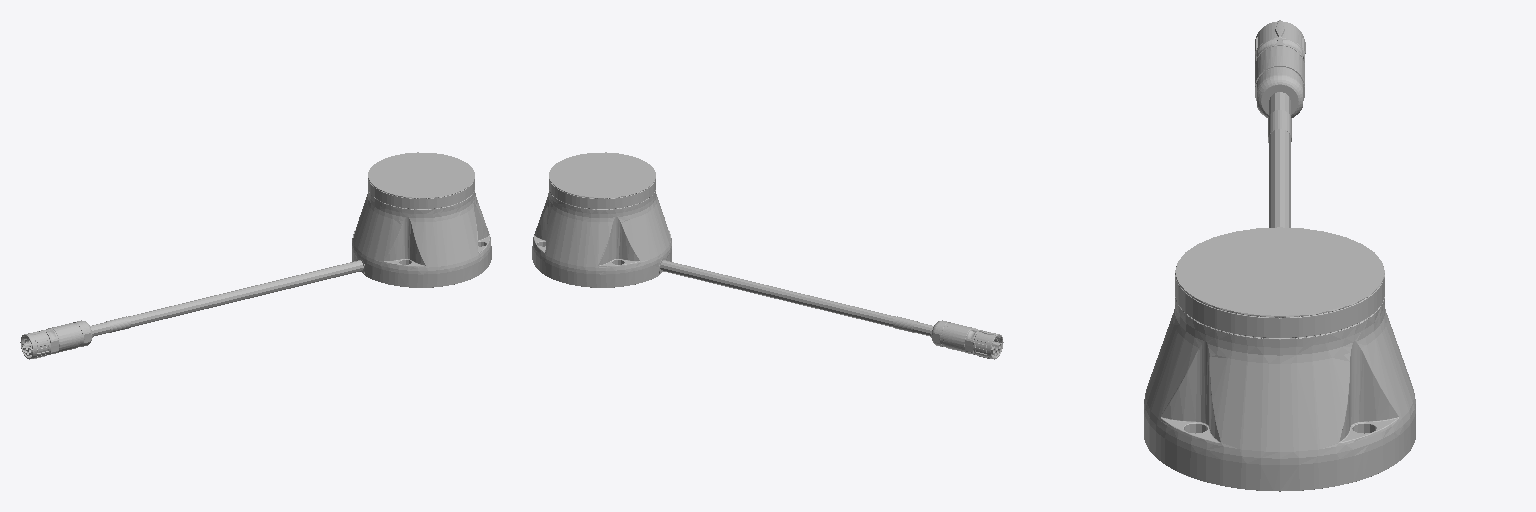
The robot description file, URDF, robot "Tool":
<?xml version="1.0" encoding="utf-8"?>
<!-- This URDF was automatically created by SolidWorks to URDF Exporter! Originally created by [author] ([email redacted]) 
     Commit Version: 1.6.0-4-g7f85cfe  Build Version: 1.6.7995.38578
     For more information, please see http://wiki.ros.org/sw_urdf_exporter -->
<robot
  name="Tool">
  <link
    name="base_link">
    <inertial>
      <origin
        xyz="0.0823340324548034 0.00125665237705858 0.00160517850151298"
        rpy="0 0 0" />
      <mass
        value="0.954715115348201" />
      <inertia
        ixx="0.00265896594088435"
        ixy="-1.89077852922566E-08"
        ixz="8.88538856861945E-05"
        iyy="0.005959927360402"
        iyz="9.25075264400932E-07"
        izz="0.00778370367329443" />
    </inertial>
    <visual>
      <origin
        xyz="0 0 0"
        rpy="0 0 0" />
      <geometry>
        <mesh
          filename="package://Tool/meshes/base_link.STL" />
      </geometry>
      <material
        name="">
        <color
          rgba="0.752941176470588 0.752941176470588 0.752941176470588 1" />
      </material>
    </visual>
    <collision>
      <origin
        xyz="0 0 0"
        rpy="0 0 0" />
      <geometry>
        <mesh
          filename="package://Tool/meshes/base_link.STL" />
      </geometry>
    </collision>
  </link>
</robot>

--- What the picture shows (computed from the rendered views, not written in the file) ---
Views: 3 orthographic renders of the robot side by side, from view 1: azimuth 30°, elevation 25°; view 2: azimuth 150°, elevation 25°; view 3: azimuth 270°, elevation 25°.
Model Tool with 1 links and 0 joints (none), rooted at base_link, posed all joints at 0.
Visible links, largest first — view 1: base_link; view 2: base_link; view 3: base_link.
Link boxes in pixels (x1,y1,x2,y2): base_link: [20, 152, 491, 359]; base_link: [532, 152, 1003, 359]; base_link: [1144, 20, 1415, 491].
Bounding box of the posed robot: 0.5669 × 0.151 × 0.104 m (x, y, z).
1 mesh visuals loaded from 1 distinct referenced files (1 binary STL).